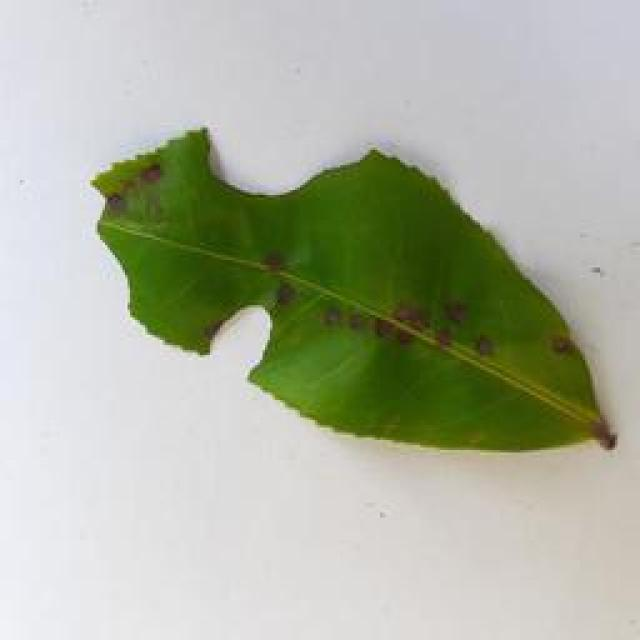Helopeltis: (68, 116, 629, 479)
